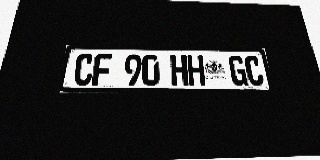0: (142, 54, 159, 86)
9: (124, 54, 142, 86)
C: (73, 53, 94, 85), (244, 56, 265, 86)
F: (92, 54, 112, 86)
G: (228, 56, 248, 86)
H: (187, 55, 206, 86), (170, 55, 188, 86)
